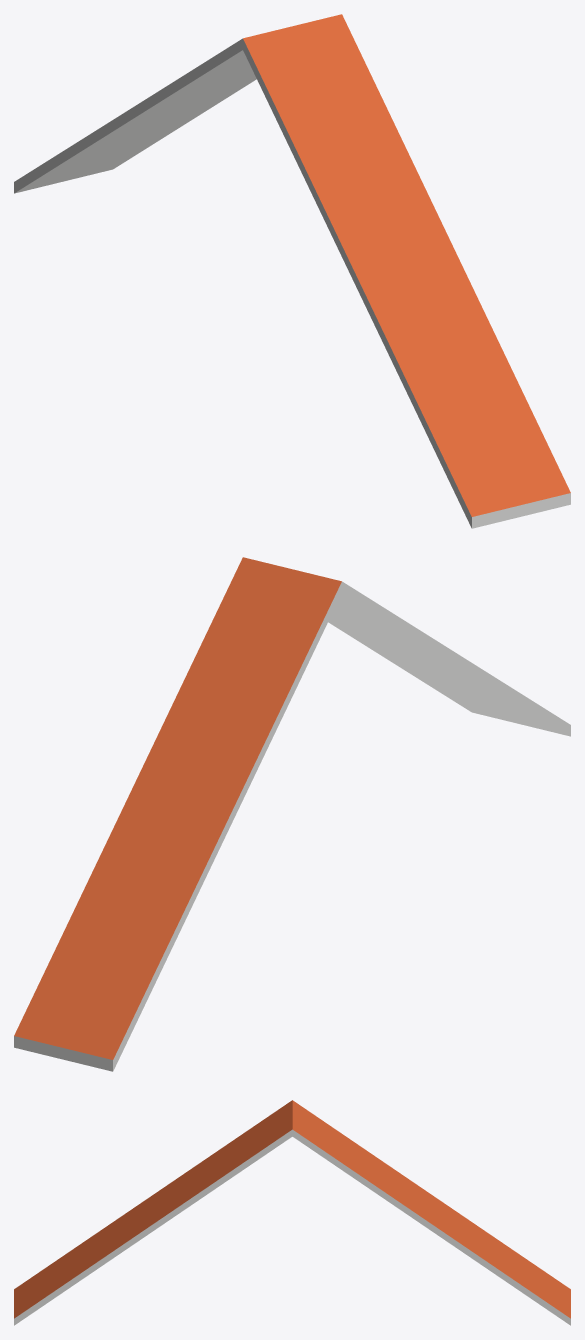
Rendered from telhado_duas_aguas_v8_i75_1m.glb.
3 views of the same model, one above another, from view 1: azimuth 30°, elevation 25°; view 2: azimuth 150°, elevation 25°; view 3: azimuth 270°, elevation 25° (orthographic). The views are drawn at different scales.
Visible parts, largest first — view 1: telhado_duas_aguas_v8_i75_1m; view 2: telhado_duas_aguas_v8_i75_1m; view 3: telhado_duas_aguas_v8_i75_1m.
Boxes of the visible parts, box(x1,y1,x2,y2) form: telhado_duas_aguas_v8_i75_1m: box(14, 14, 570, 528); telhado_duas_aguas_v8_i75_1m: box(14, 557, 570, 1071); telhado_duas_aguas_v8_i75_1m: box(14, 1100, 570, 1325).
Bounding box in the file's own units: 1 × 3.11 × 8.
